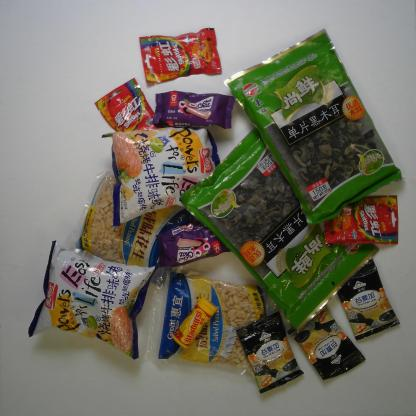Candy: (138, 28, 222, 84), (324, 194, 400, 246), (94, 77, 162, 132), (171, 296, 218, 350)
Dessert: (155, 221, 232, 266), (153, 90, 235, 129)
Dried Food: (178, 126, 378, 332), (222, 27, 405, 226)
Dried Fruit: (141, 266, 280, 380), (61, 167, 184, 270)
Instant Drink: (287, 306, 367, 381), (235, 310, 305, 394), (337, 259, 400, 341)
Puffed Food: (27, 240, 160, 359), (101, 126, 221, 227)
